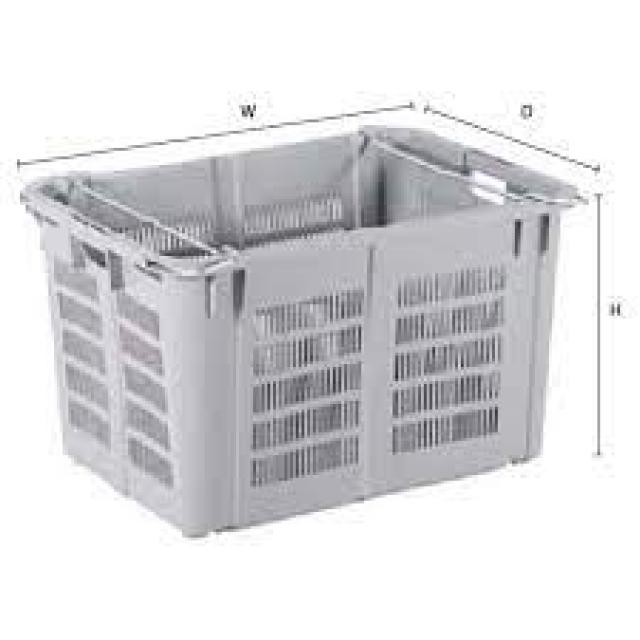basket: (3, 61, 638, 563)
